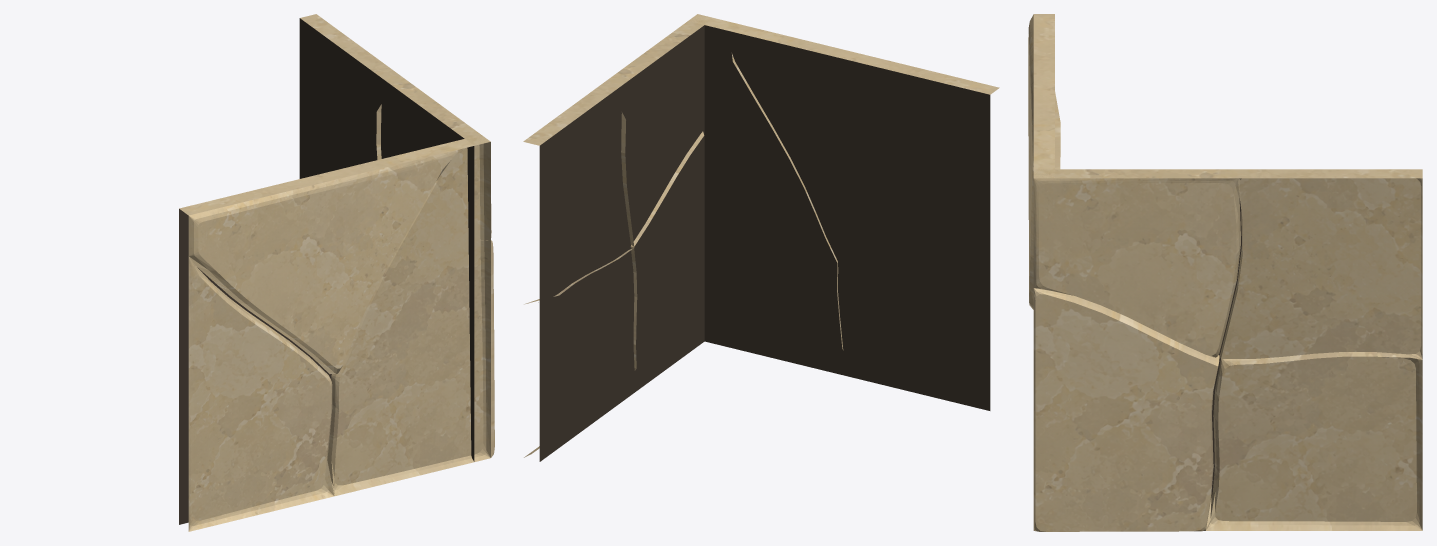
The model's file is ground_square_corner_01.glb.
The picture shows the model from 3 angles, left to right: view 1: azimuth 30°, elevation 25°; view 2: azimuth 150°, elevation 25°; view 3: azimuth 270°, elevation 25°; orthographic projection. The views are drawn at different scales.
Visible parts, largest first — view 1: GroundSquareCorner01_Body; view 2: GroundSquareCorner01_Body; view 3: GroundSquareCorner01_Body.
Boxes of the visible parts, <box> form: GroundSquareCorner01_Body: <box>179,14,494,531</box>; GroundSquareCorner01_Body: <box>523,14,999,461</box>; GroundSquareCorner01_Body: <box>1028,14,1422,531</box>.
Bounding box in the file's own units: 1.02 × 1 × 1.01.
9 materials, 8 textured.
